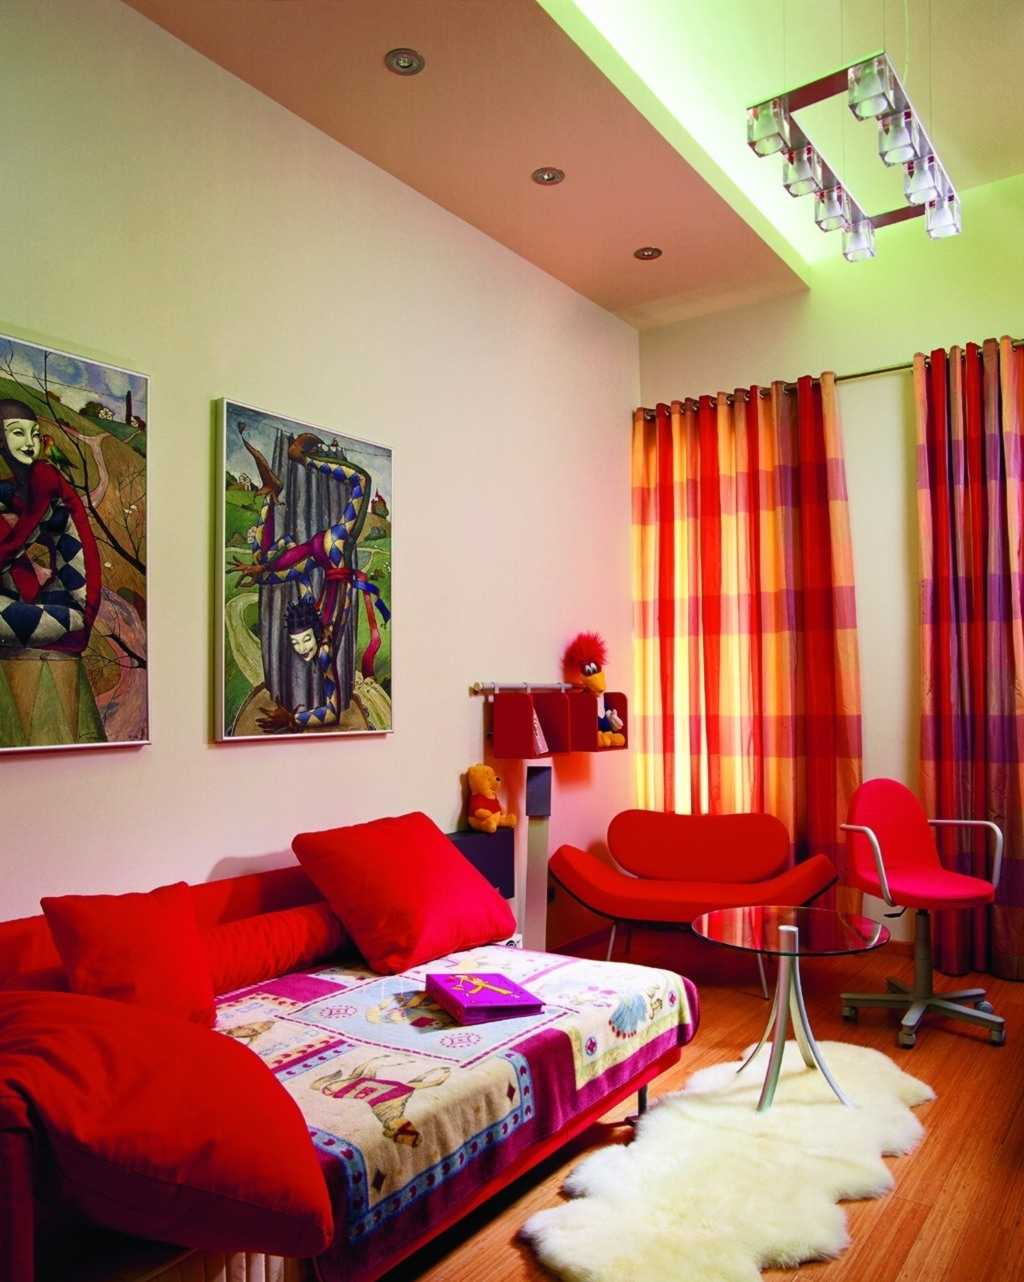merah: (5, 1008, 323, 1236), (548, 809, 835, 915), (295, 828, 514, 947), (1, 882, 219, 1001), (847, 780, 993, 907), (489, 686, 633, 756)
ungu: (417, 970, 527, 1028)
